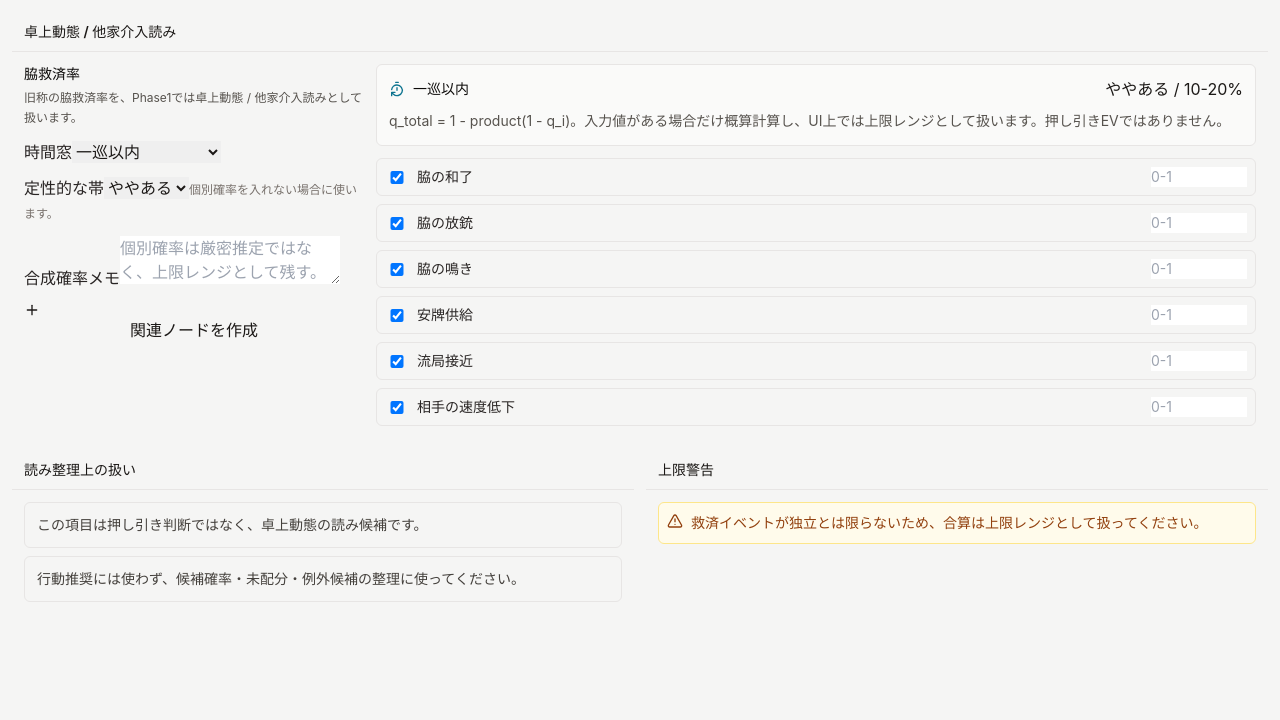
Test: workbench components › estimates rescue rate from event probabilities and warns on overestimation
In the number field with placeholder "0-1" in the row of "脇の和了": (1199, 177) [1151,167,1247,187], type "0.2"
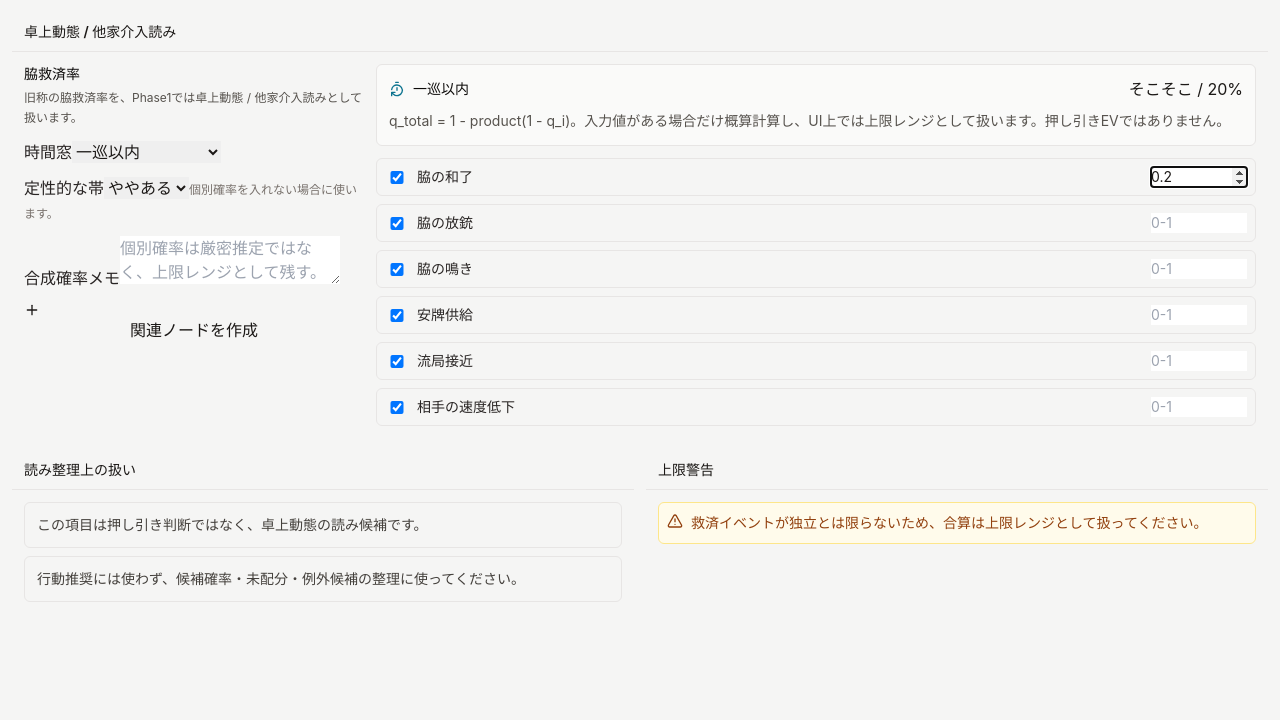
In the number field with placeholder "0-1" in the row of "脇の放銃": (1199, 223) [1151,213,1247,233], type "0.2"
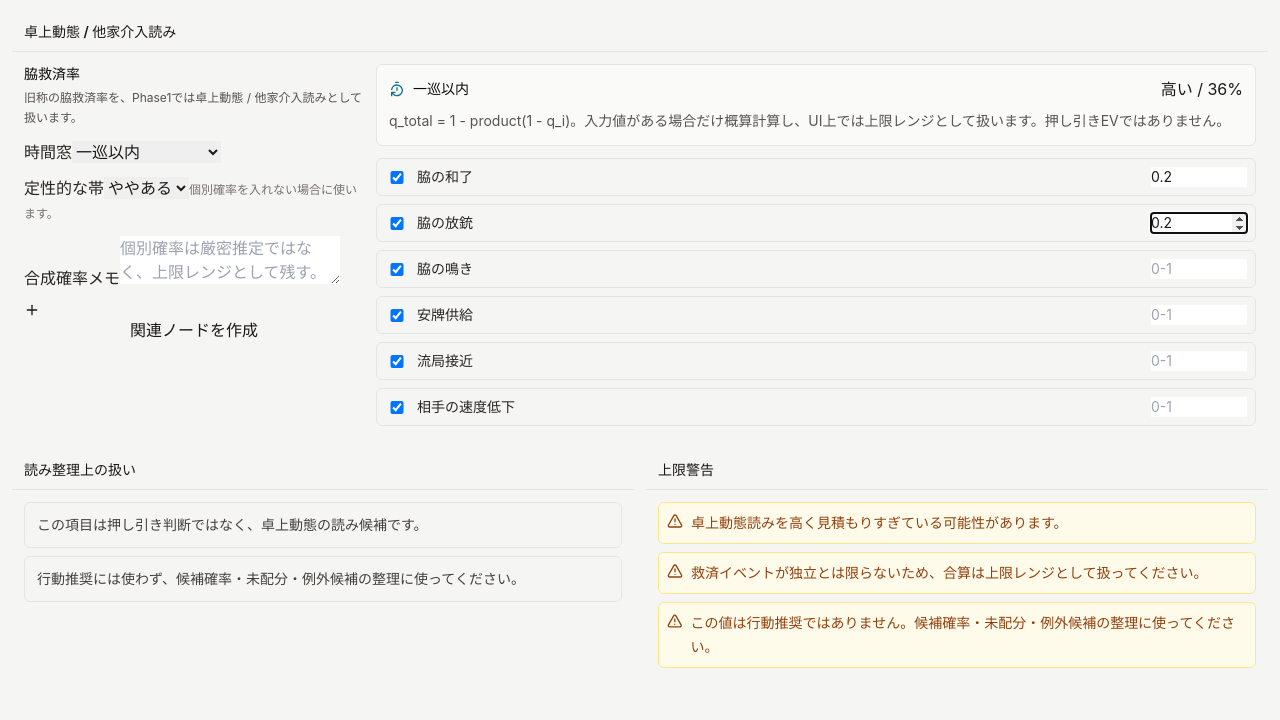
Now the text "高い / 36%" is shown, box [1161,77,1243,101]
Now the text "卓上動態読みを高く見積もりすぎている可能性があります。" is shown, box [691,511,1068,535]
